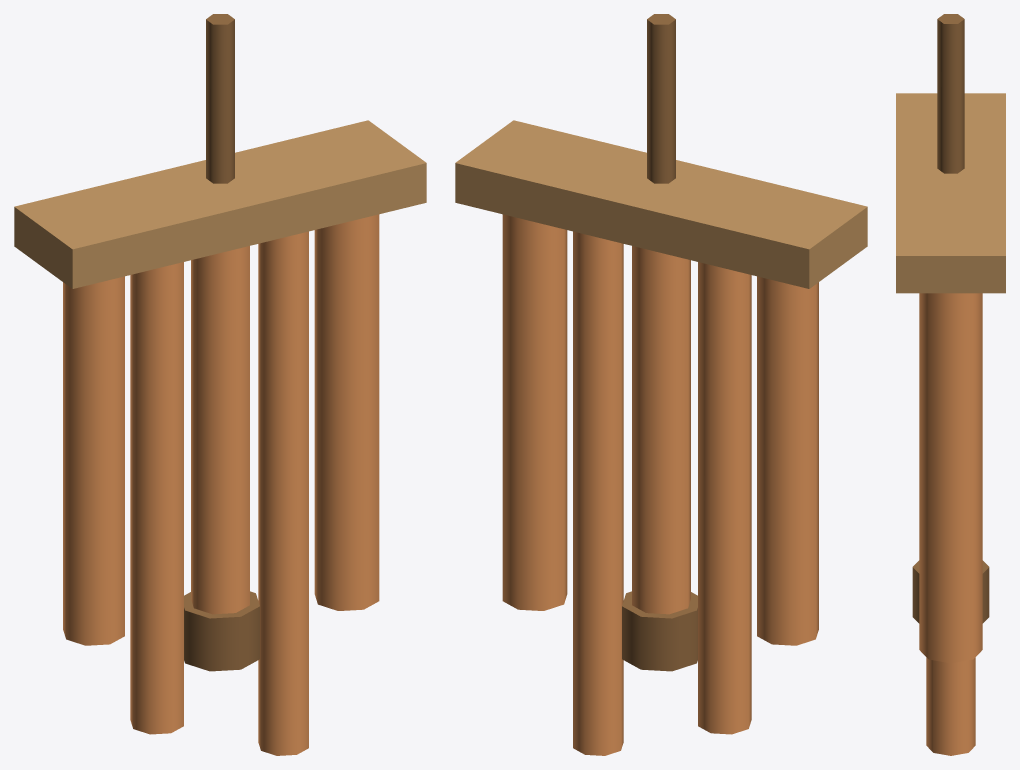
File: wind_chimes.glb
3 renders of one model, left to right at view 1: azimuth 30°, elevation 25°; view 2: azimuth 150°, elevation 25°; view 3: azimuth 270°, elevation 25°, orthographic. The views are drawn at different scales.
Parts seen in each view (by area): view 1: wind_chimes; view 2: wind_chimes; view 3: wind_chimes.
Part boxes in pixels (x1,y1,x2,y2): wind_chimes: (14,14,426,755); wind_chimes: (455,14,867,755); wind_chimes: (896,14,1005,755).
Size of the model in its own units: 14 by 28 by 4.
